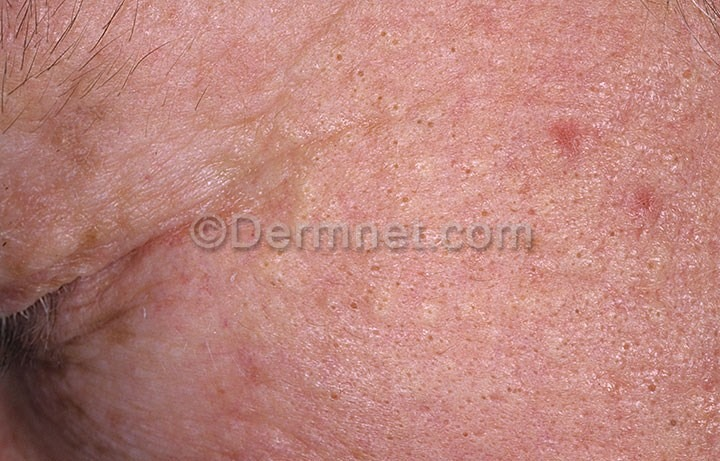Melasma: (205, 268, 720, 461), (322, 0, 720, 218), (23, 73, 170, 461)
